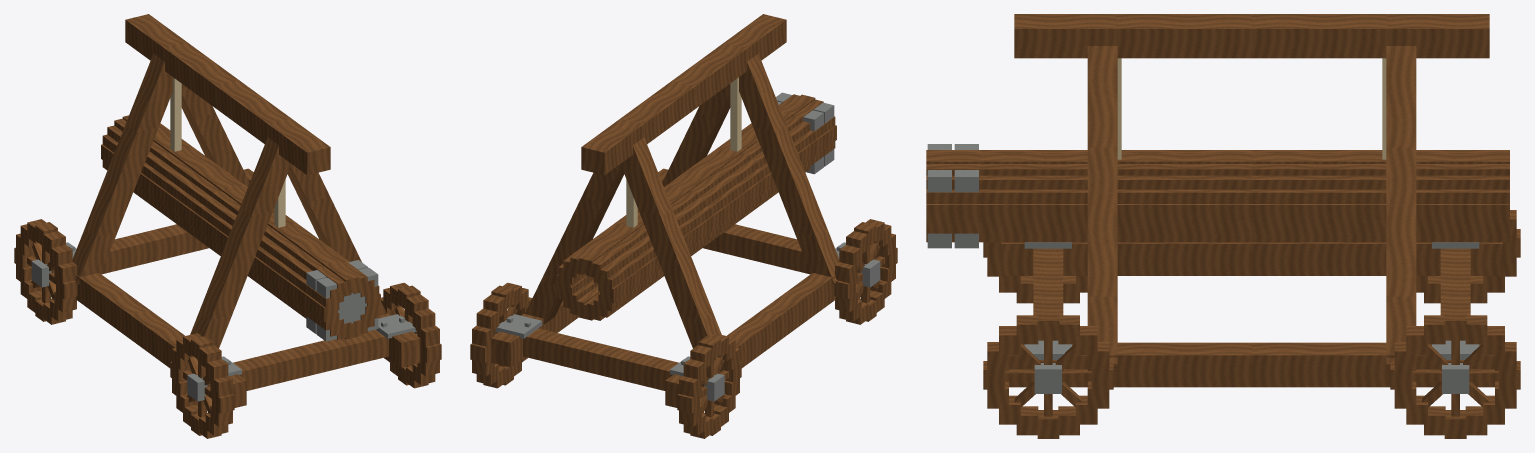
3 views of the same model, side by side, from view 1: azimuth 30°, elevation 25°; view 2: azimuth 150°, elevation 25°; view 3: azimuth 270°, elevation 25° (orthographic). The views are drawn at different scales.
Bounding box in the file's own units: 252 × 282 × 438.
Materials: 3 (1 with a texture image).
